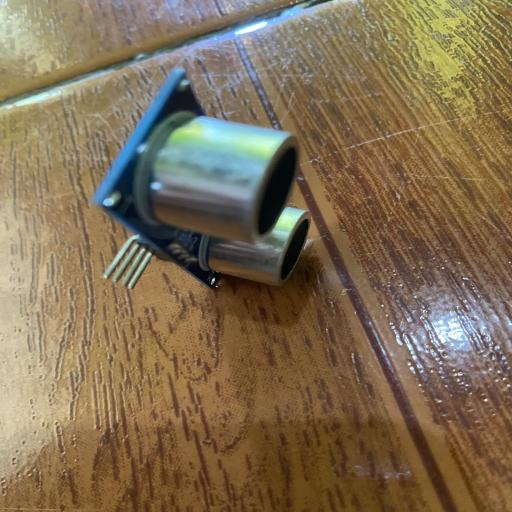Ultrasonic Sensor: (89, 63, 315, 291)
